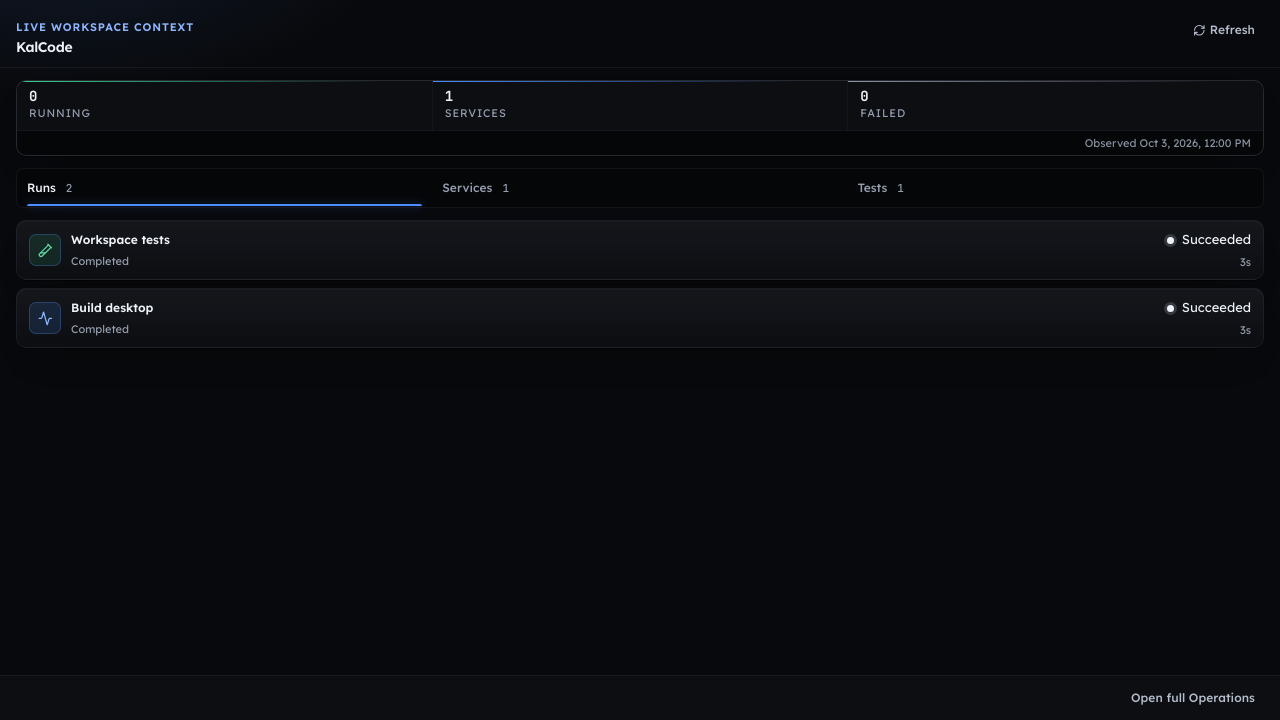
Scenario: CodeContextOperations › scopes test runs to Code's workspace and opens the canonical test evidence tab
Click the tab "Tests 1". click: (872, 188)
box: [850,172,1261,206]
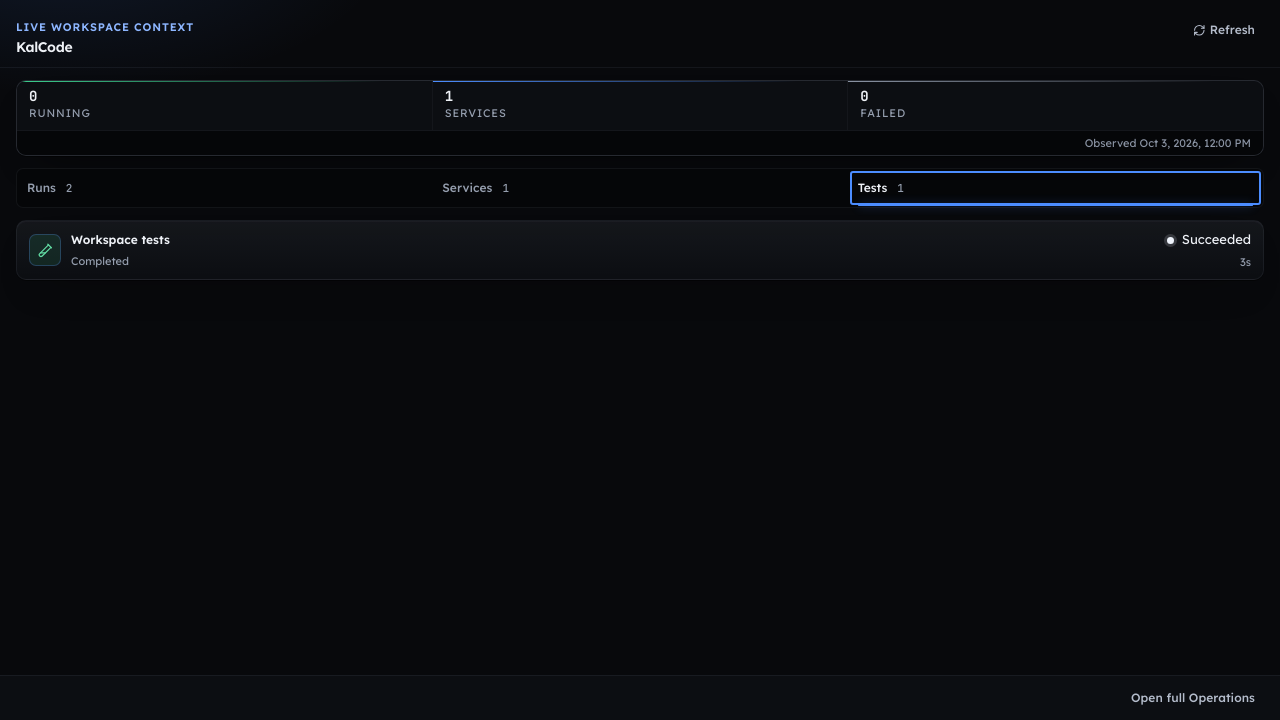
Expected: the text "Workspace tests" is shown, [71,232,170,247]
Click the button with aria-label "Open run Workspace tests". click: (45, 250)
box: [16,220,1264,280]
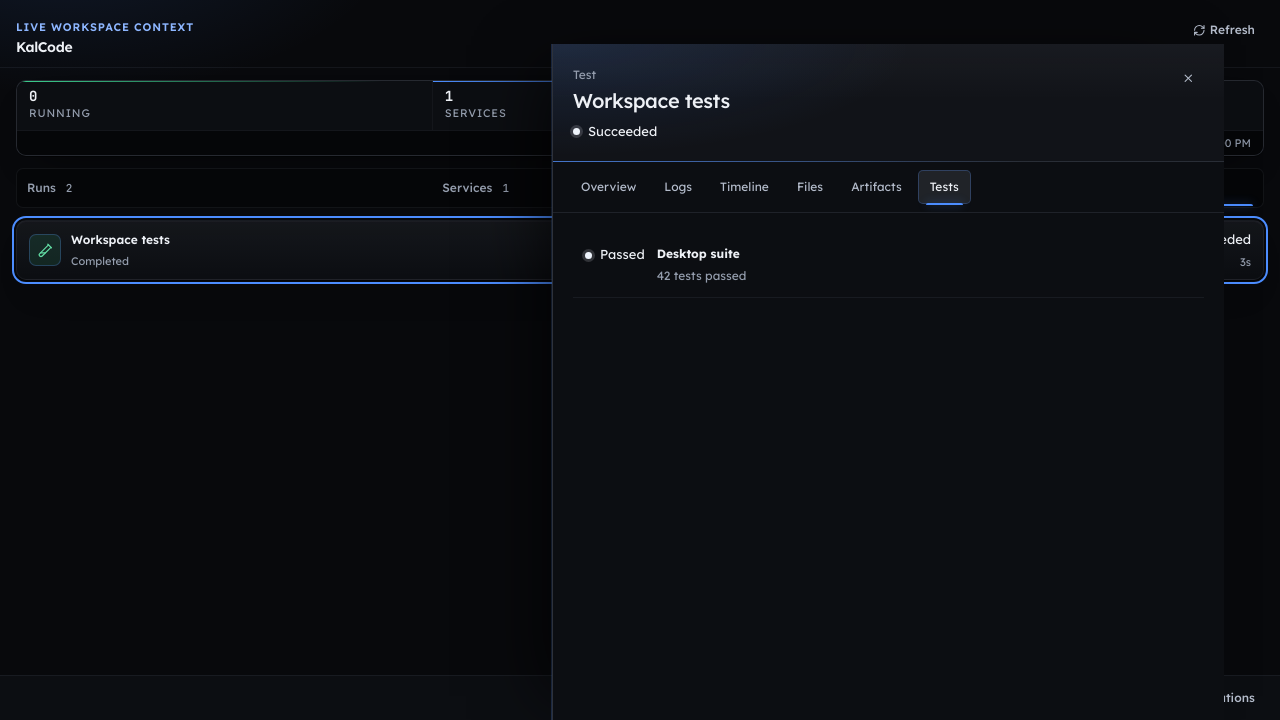
Now the text "42 tests passed" is shown, box [657,267,746,285]
